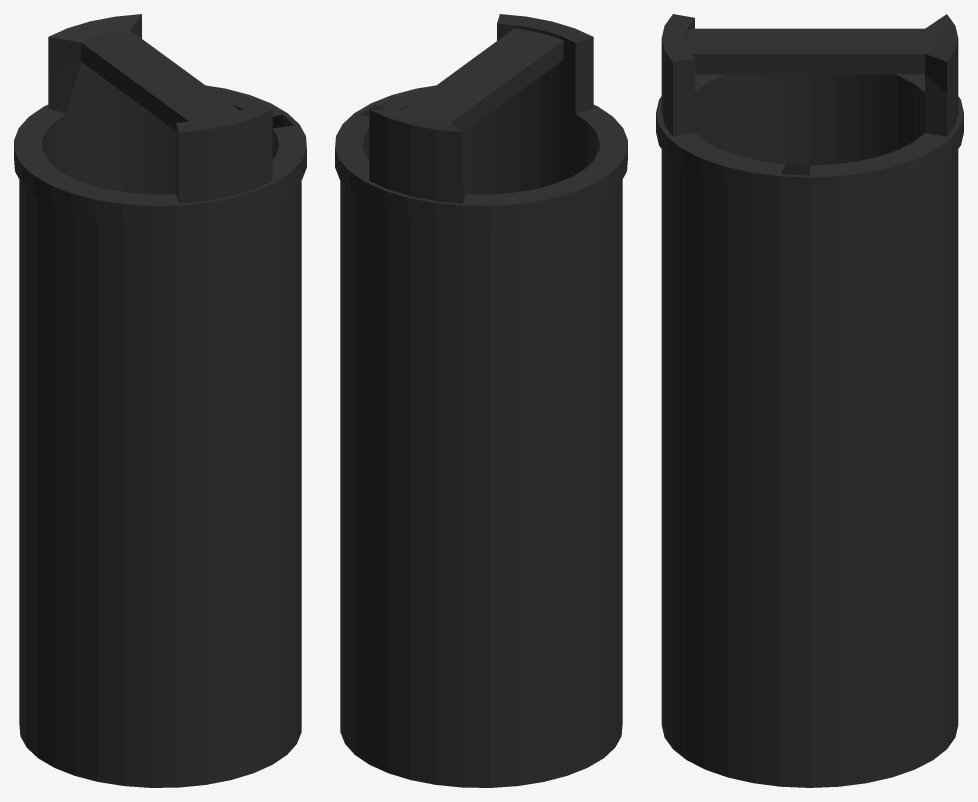
The model's file is prullebak.fbx.
3 renders of one model, left to right at view 1: azimuth 30°, elevation 25°; view 2: azimuth 150°, elevation 25°; view 3: azimuth 270°, elevation 25°, orthographic. The views are drawn at different scales.
Visible parts, largest first — view 1: Cylinder; view 2: Cylinder; view 3: Cylinder.
Boxes of the visible parts, left/top/right/bottom form: Cylinder: left=14, top=14, right=306, bottom=787; Cylinder: left=335, top=14, right=627, bottom=787; Cylinder: left=656, top=14, right=963, bottom=787.
Bounding box in the file's own units: 160 × 393 × 160.
